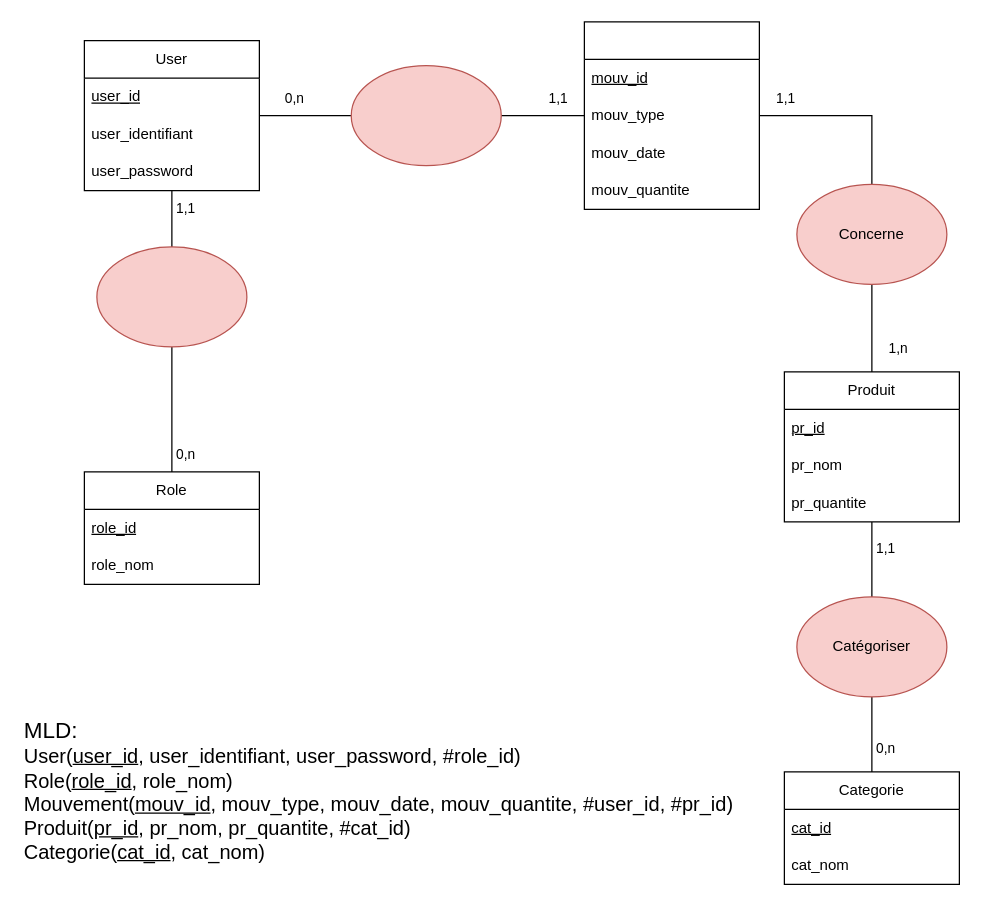
This 981x919 diagram has some shape labels left out. Here are the shapes that lost their labels. From the top down, the box of each, then its label:
(350, 64, 501, 166): Effectuer
(583, 21, 759, 209): Mouvement
(96, 246, 247, 347): Avoir
